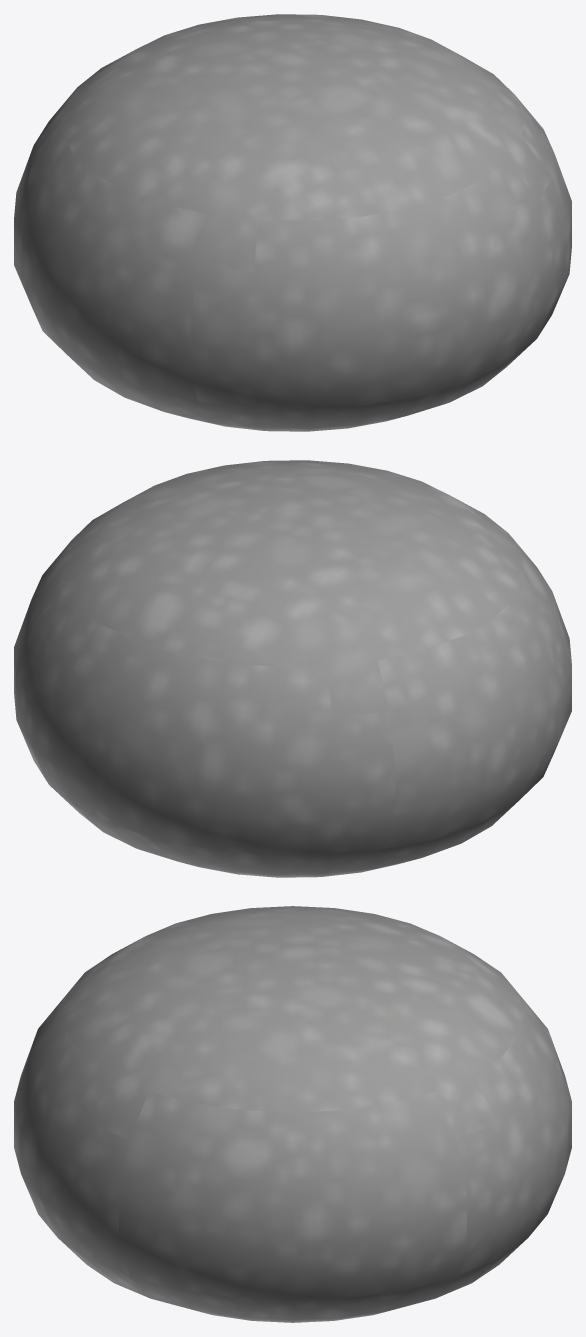
The model's file is Mochi.glb.
3 views of the same model, one above another, from view 1: azimuth 30°, elevation 25°; view 2: azimuth 150°, elevation 25°; view 3: azimuth 270°, elevation 25° (orthographic).
Visible parts, largest first — view 1: geometry_0; view 2: geometry_0; view 3: geometry_0.
Part boxes in pixels (x1,y1,x2,y2): geometry_0: [14, 14, 571, 431]; geometry_0: [14, 460, 571, 877]; geometry_0: [14, 906, 571, 1322].
Bounding box in the file's own units: 0.6879 × 0.4091 × 0.6879.
1 material, 1 textured.
